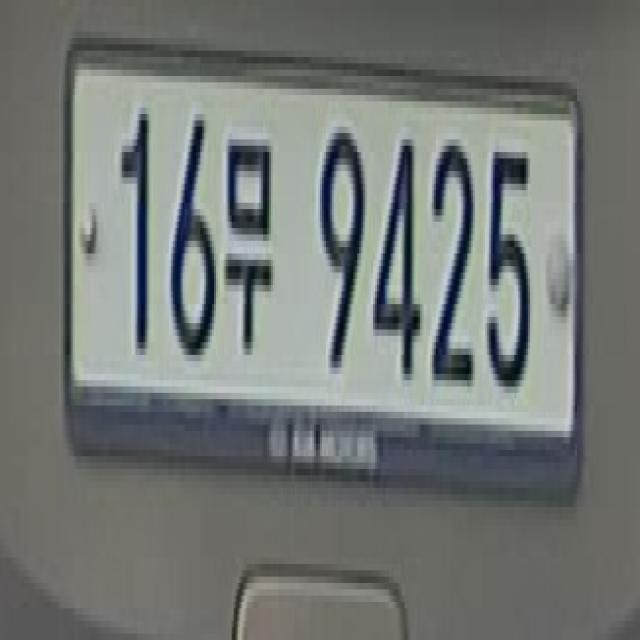1: (116, 101, 159, 368)
2: (428, 127, 479, 406)
4: (367, 126, 426, 386)
5: (479, 133, 534, 393)
6: (165, 101, 220, 368)
9: (306, 95, 367, 374)
license_plate: (55, 25, 585, 520)
mu: (222, 127, 277, 374)
